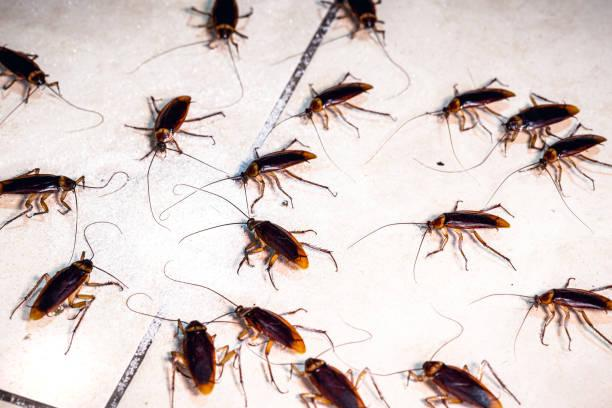cockroach: (2, 3, 607, 404), (0, 133, 140, 262), (335, 187, 532, 278), (176, 263, 341, 367), (238, 59, 404, 161), (166, 196, 354, 286), (0, 20, 115, 153), (445, 276, 612, 367), (135, 298, 260, 408), (23, 226, 125, 359), (119, 0, 272, 86), (248, 0, 438, 69), (401, 47, 507, 159), (475, 125, 611, 208), (120, 74, 227, 174), (362, 349, 534, 408), (267, 326, 375, 408), (178, 149, 338, 202), (435, 100, 590, 152)
